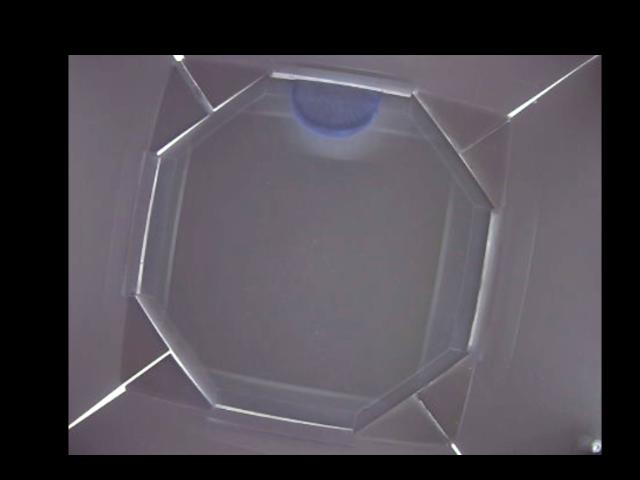Mooli: (290, 79, 384, 139)
